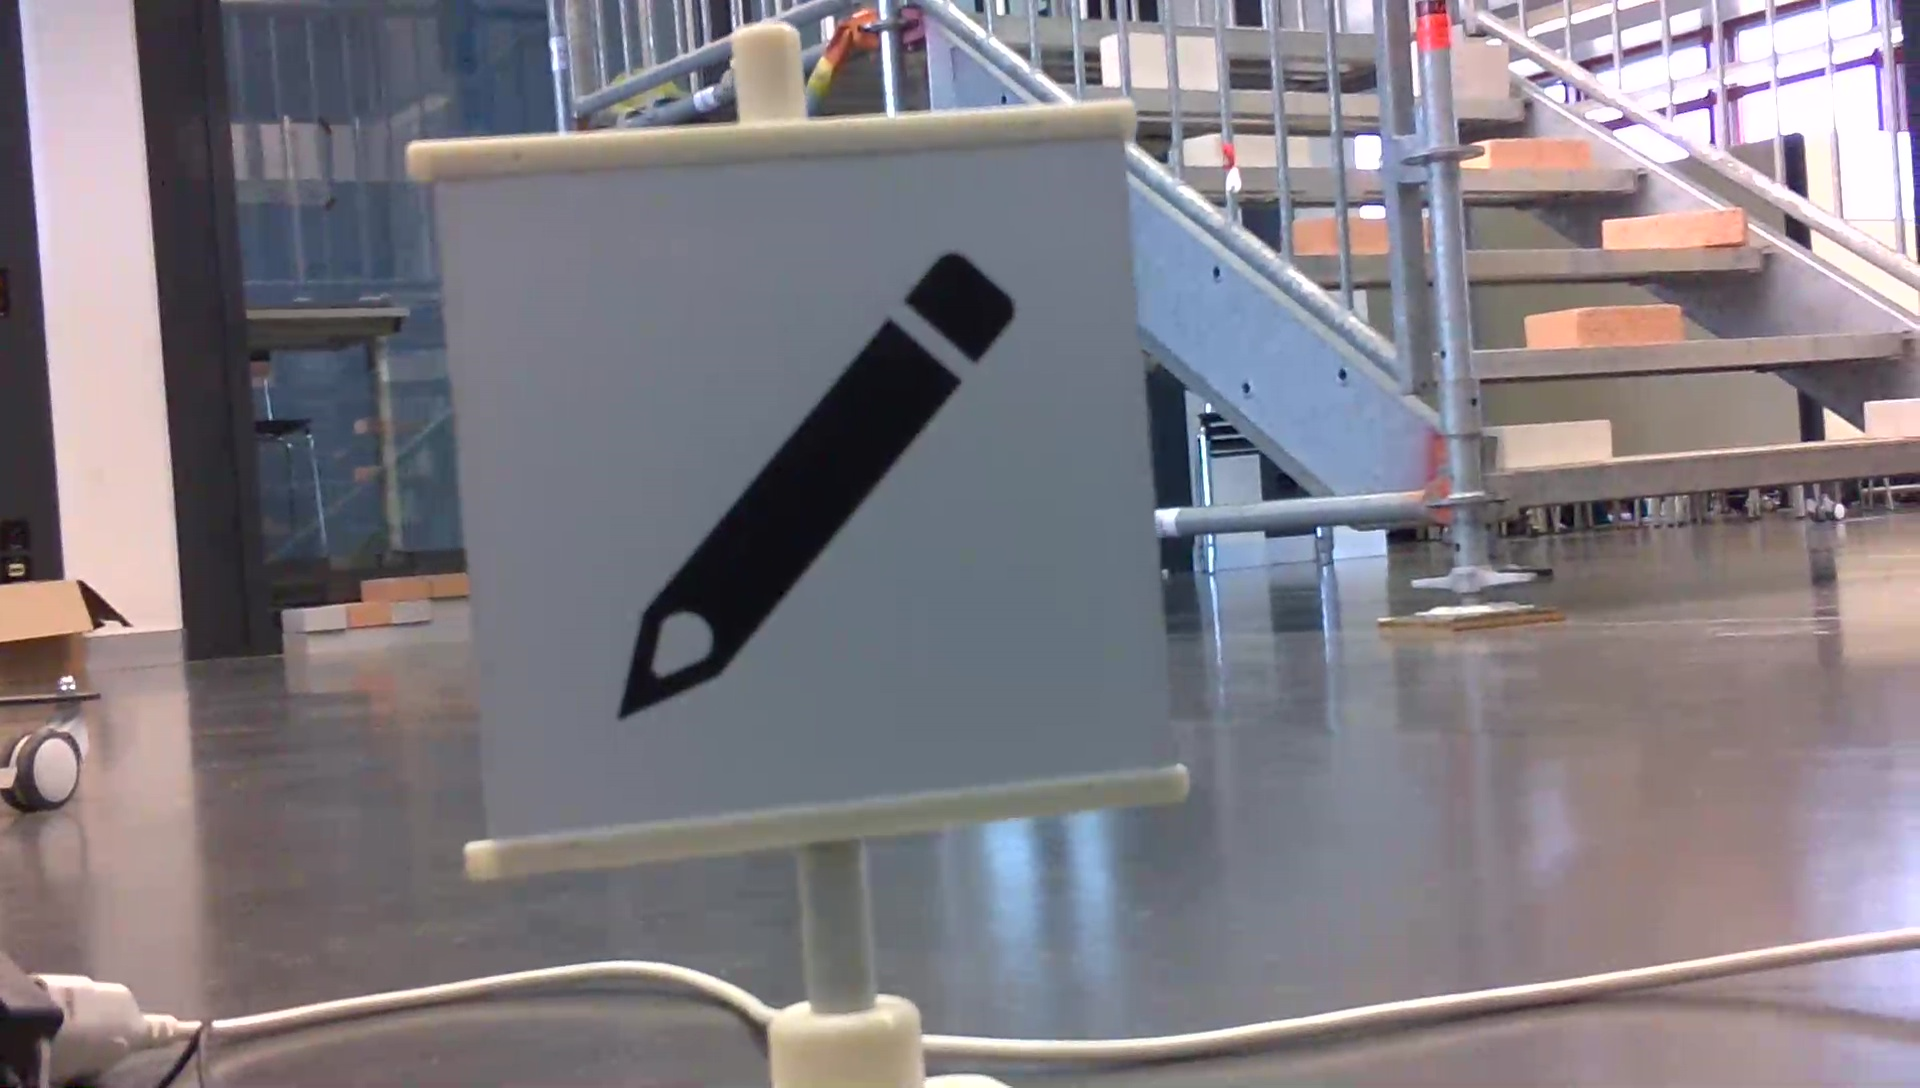brick: (1602, 210, 1749, 247), (1495, 421, 1605, 469), (1528, 307, 1673, 343), (1476, 138, 1589, 174), (1447, 36, 1505, 100), (1858, 398, 1920, 440)
edge: (1493, 443, 1917, 500), (1472, 328, 1905, 377)
pencil: (603, 239, 1029, 729)
stairs: (1379, 7, 1920, 630)
